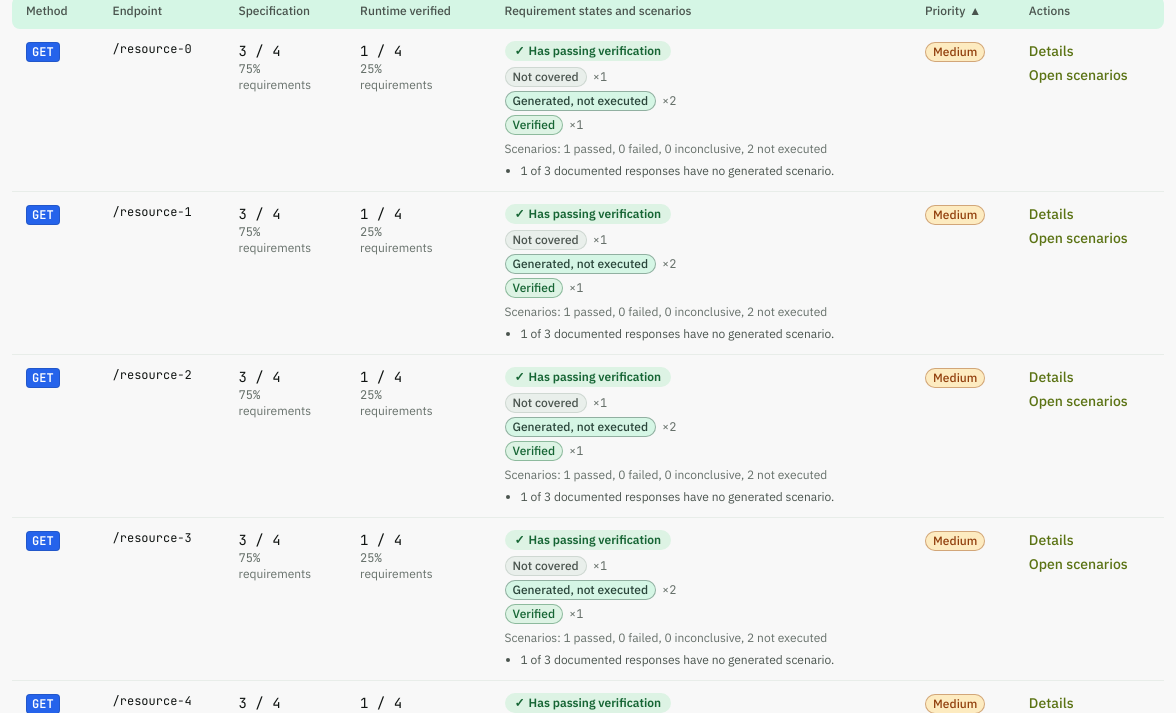
GapsTable at 500 operations › renders the first page and responds to a sort or page change well inside one second
Step 1. Click the button "Endpoint" → point(139, 11), box [112, 3, 166, 19]
(page scrolled)
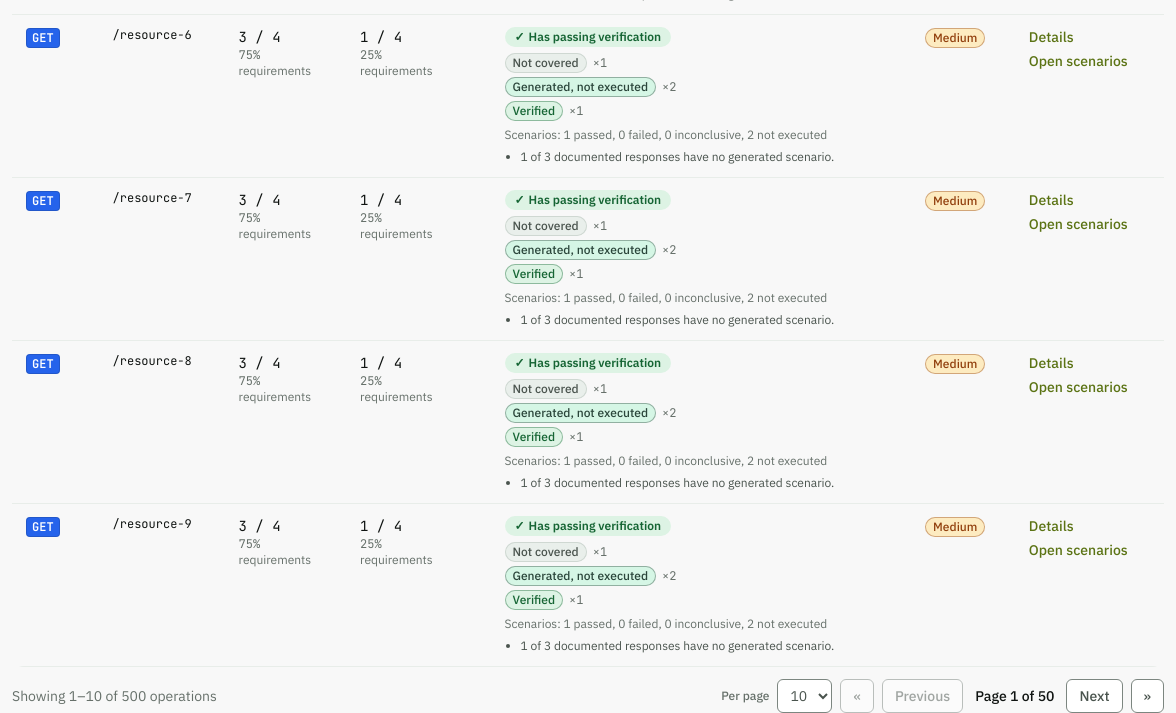
Step 2. Click the button "Next" → point(1094, 696), box [1066, 679, 1122, 712]
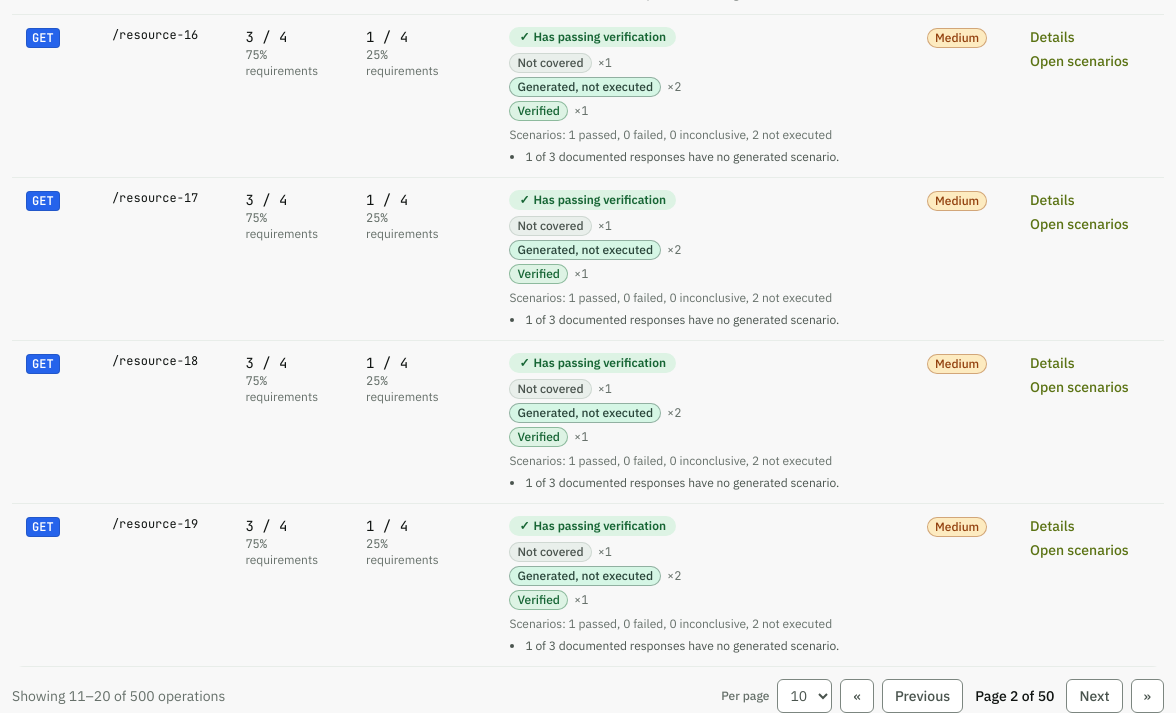
Now the text "Showing 11–20 of 500 operations" is shown, box [12, 686, 225, 706]
